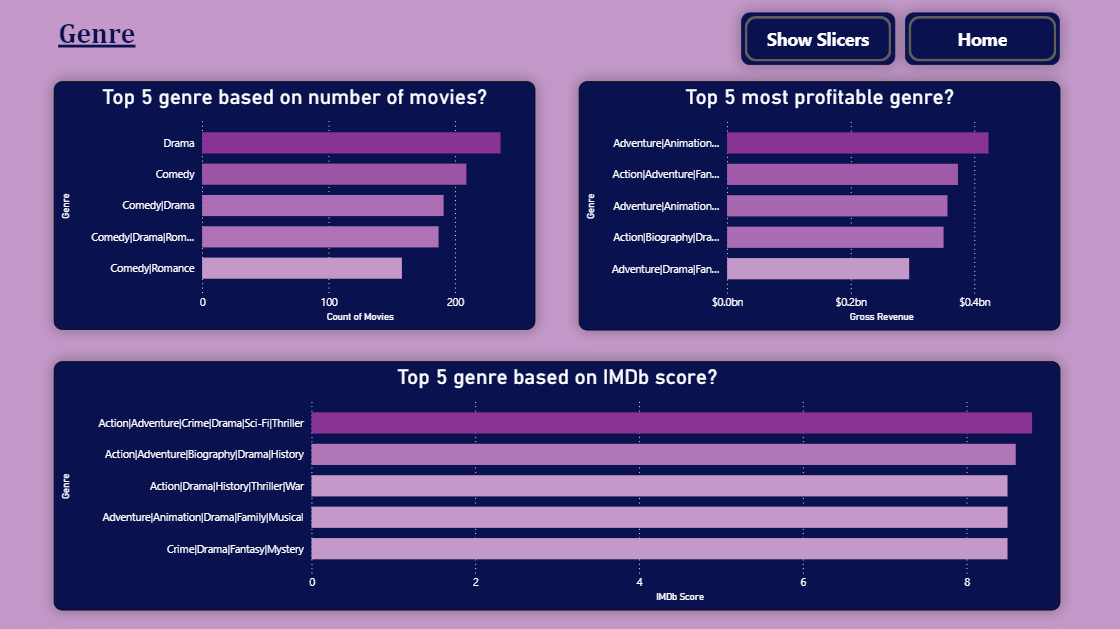

The page's visual inventory and layout, read from the dashboard file:
{"tool":"powerbi","page":{"name":"Genre Statistics","canvas":[1280,720],"ordinal":3},"visuals":[{"type":"textbox","box":[61.4,14.3,108.6,61.4],"z":0},{"type":"barChart","title":"Top 5 genre based on number of movies?","fields":{"Category":["movie_data.genres"],"Y":["CountNonNull(movie_data.genres)"]},"box":[61.4,92.9,550,284.3],"z":1000},{"type":"barChart","title":"Top 5 most profitable genre?","fields":{"Category":["movie_data.genres"],"Y":["Median(movie_data.gross)"]},"box":[661.2,92.5,550,285],"z":2000},{"type":"barChart","title":"Top 5 genre based on IMDb score?","fields":{"Category":["movie_data.genres"],"Y":["Median(movie_data.imdb_score)"]},"box":[61.2,412.5,1150,285],"z":3000},{"type":"actionButton","title":"Home Button","box":[1034.3,14.3,177.1,60],"z":4000},{"type":"actionButton","title":"Show Slicer Button","box":[847.1,14.3,175.7,60],"z":5000}]}

Visuals, with their boxes in screenshot pixels (x1, y1, x2, y2), scaled from the page's 1280x720 canvas onto the 1120x629 screenshot:
textbox: box(54, 12, 149, 66)
"Top 5 genre based on number of movies?" barChart: box(54, 81, 535, 330)
"Top 5 most profitable genre?" barChart: box(579, 81, 1060, 330)
"Top 5 genre based on IMDb score?" barChart: box(54, 360, 1060, 609)
"Home Button" actionButton: box(905, 12, 1060, 65)
"Show Slicer Button" actionButton: box(741, 12, 895, 65)
